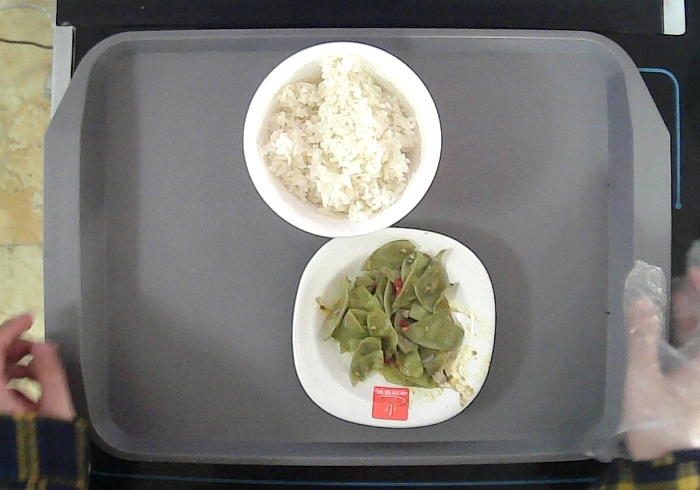SHKJ-Bai_Se_Si_Fang_Cai_Die: (291, 225, 497, 429)
SHKJ-Fan_Wan: (241, 40, 444, 239)
